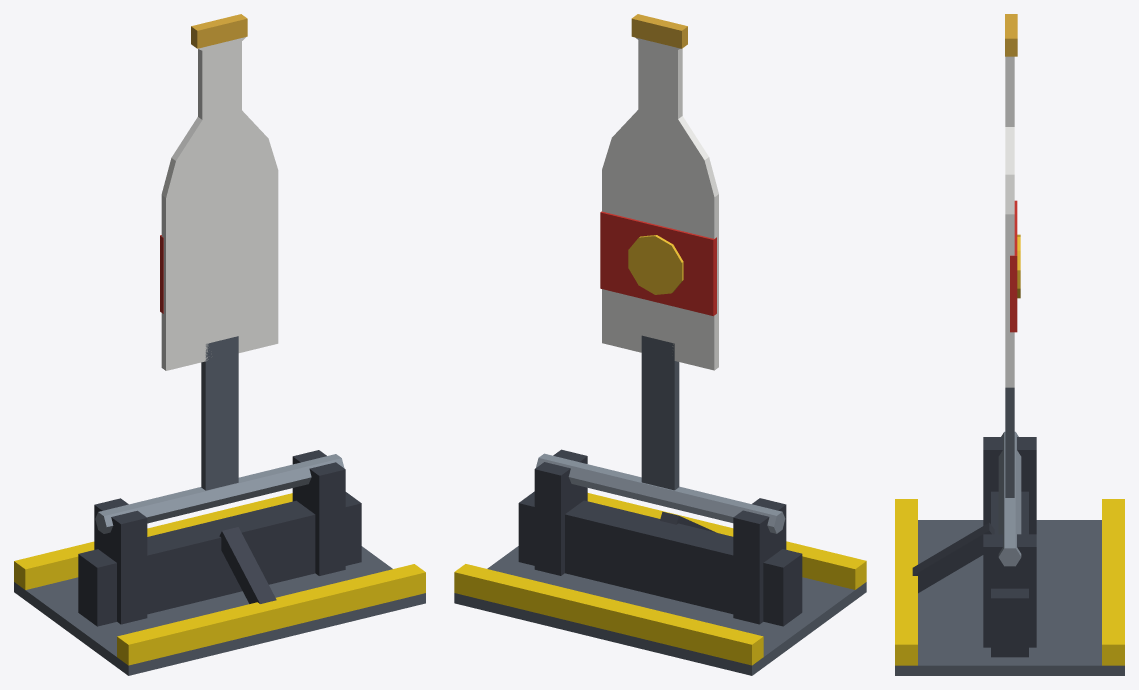
File: target_silhouette.glb
3 views of the same model, side by side, from view 1: azimuth 30°, elevation 25°; view 2: azimuth 150°, elevation 25°; view 3: azimuth 270°, elevation 25° (orthographic).
Visible parts, largest first — view 1: Base, Target; view 2: Base, Target; view 3: Base, Target.
Boxes of the visible parts, x1=… form: Base: x1=14, y1=450, x2=425, y2=675; Target: x1=160, y1=14, x2=278, y2=490; Base: x1=454, y1=449, x2=866, y2=675; Target: x1=600, y1=14, x2=718, y2=490; Base: x1=895, y1=431, x2=1124, y2=675; Target: x1=1005, y1=14, x2=1020, y2=497.
Size of the model in its own units: 0.9 by 1.66 by 0.6.
